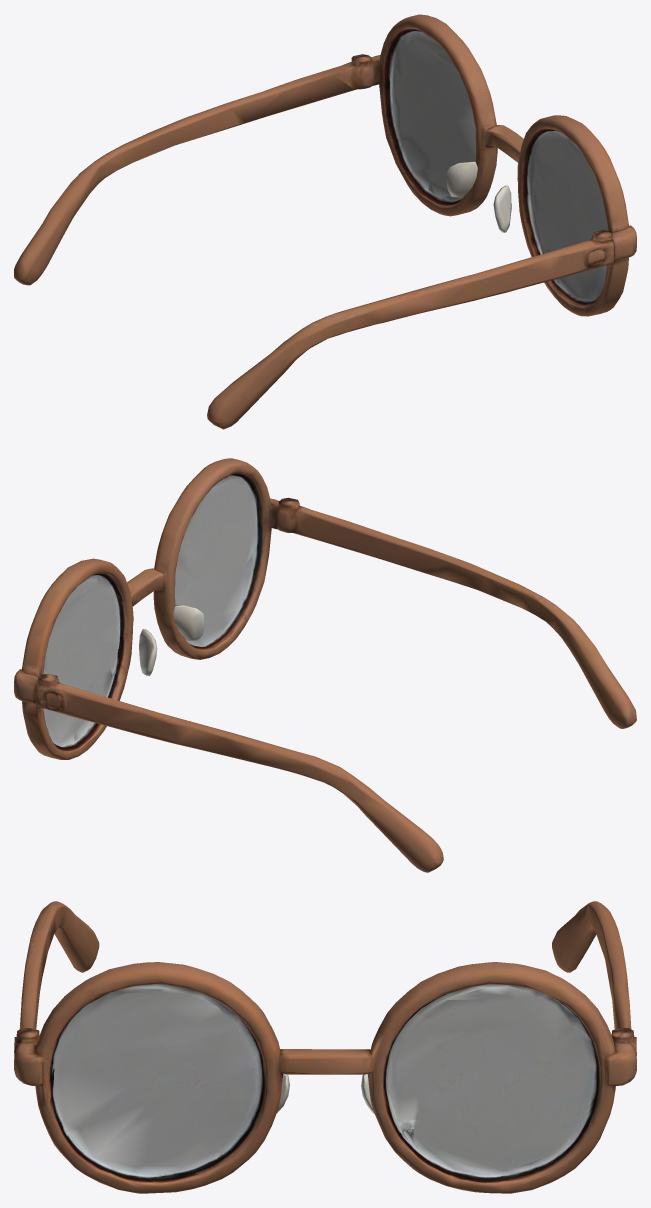
File: roundglasses.glb
The picture shows the model from 3 angles, top to bottom: view 1: azimuth 30°, elevation 25°; view 2: azimuth 150°, elevation 25°; view 3: azimuth 270°, elevation 25°; orthographic projection. The views are drawn at different scales.
Parts seen in each view (by area): view 1: tripo_node_c40fbb09-5148-462f-8a81-ddf35a2a007d; view 2: tripo_node_c40fbb09-5148-462f-8a81-ddf35a2a007d; view 3: tripo_node_c40fbb09-5148-462f-8a81-ddf35a2a007d.
Boxes of the visible parts, x1=… form: tripo_node_c40fbb09-5148-462f-8a81-ddf35a2a007d: x1=14, y1=14, x2=636, y2=429; tripo_node_c40fbb09-5148-462f-8a81-ddf35a2a007d: x1=14, y1=458, x2=636, y2=872; tripo_node_c40fbb09-5148-462f-8a81-ddf35a2a007d: x1=14, y1=901, x2=636, y2=1193.
Size of the model in its own units: 0.941 by 0.4147 by 0.9999.
Materials: 1 (1 with a texture image).
